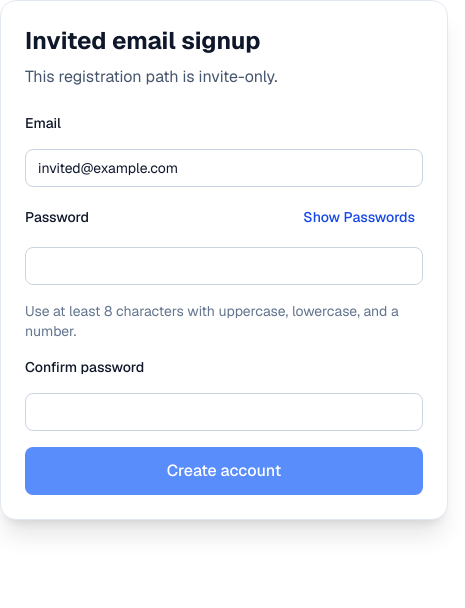
Test case: InviteEmailSignupForm › shows password length error on submit
This screenshot has width=465, height=608.
Type "short1" into the password field labelled "Password" at [224, 266], box [25,247,423,285]
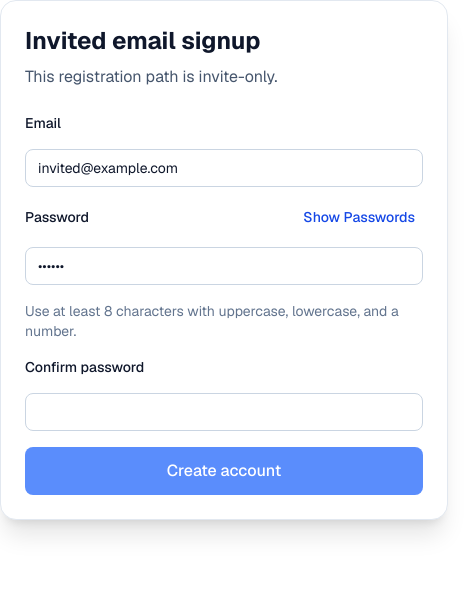
Type "short1" into the password field labelled "Confirm password" at [224, 412], box [25,393,423,431]
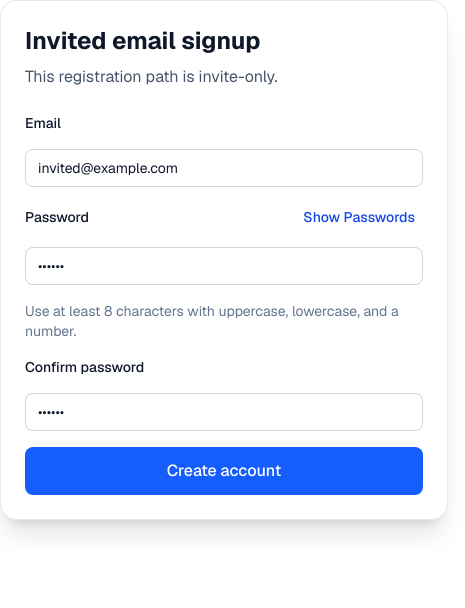
Submit the form named "Create account", box [25,113,423,495]
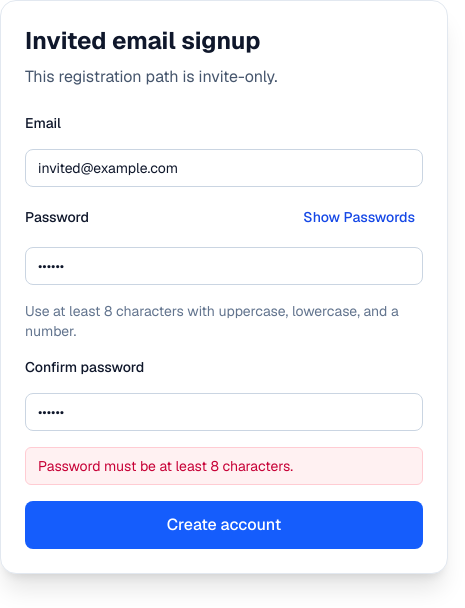
Expected: the text "Password must be at least 8 characters." is shown, [25,447,423,485]
